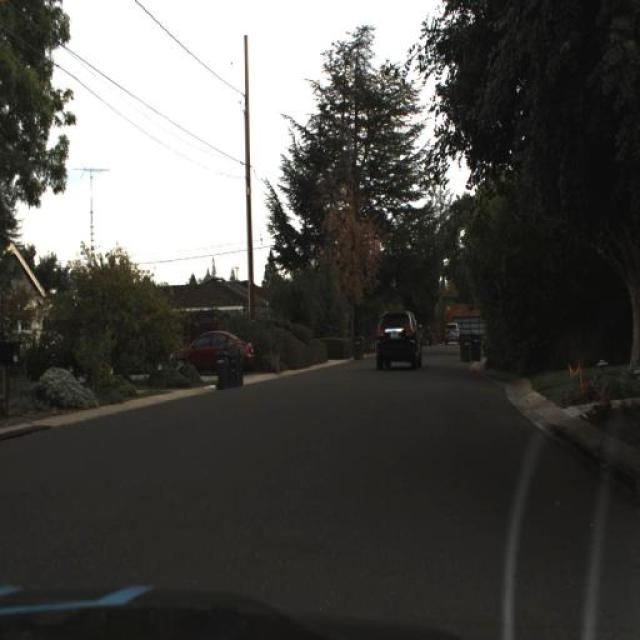car: (366, 282, 430, 388), (165, 314, 261, 384), (440, 314, 462, 350)
